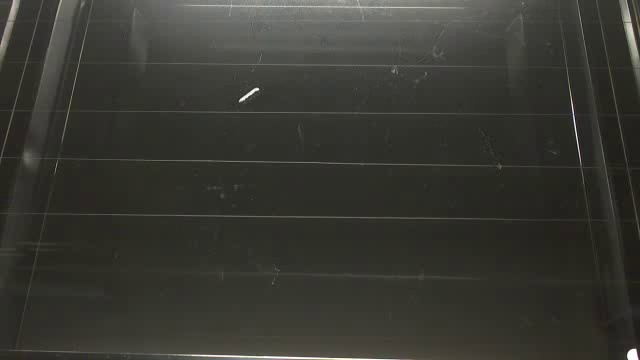Alfa: (236, 87, 262, 105)
